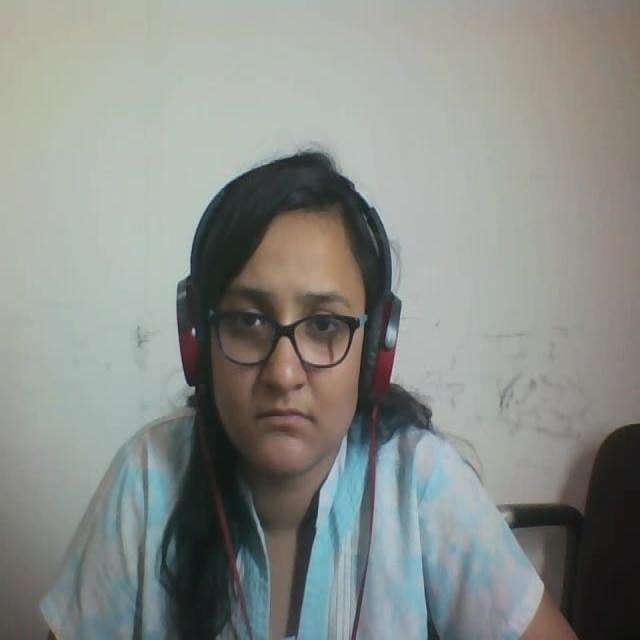Engaged: (155, 124, 419, 497)
